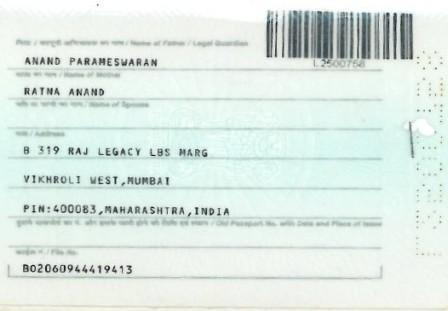File_no: (17, 257, 138, 276)
address: (19, 137, 240, 217)
father_name: (20, 51, 161, 67)
mother_name: (21, 82, 109, 97)
passport_no: (311, 56, 373, 71)
